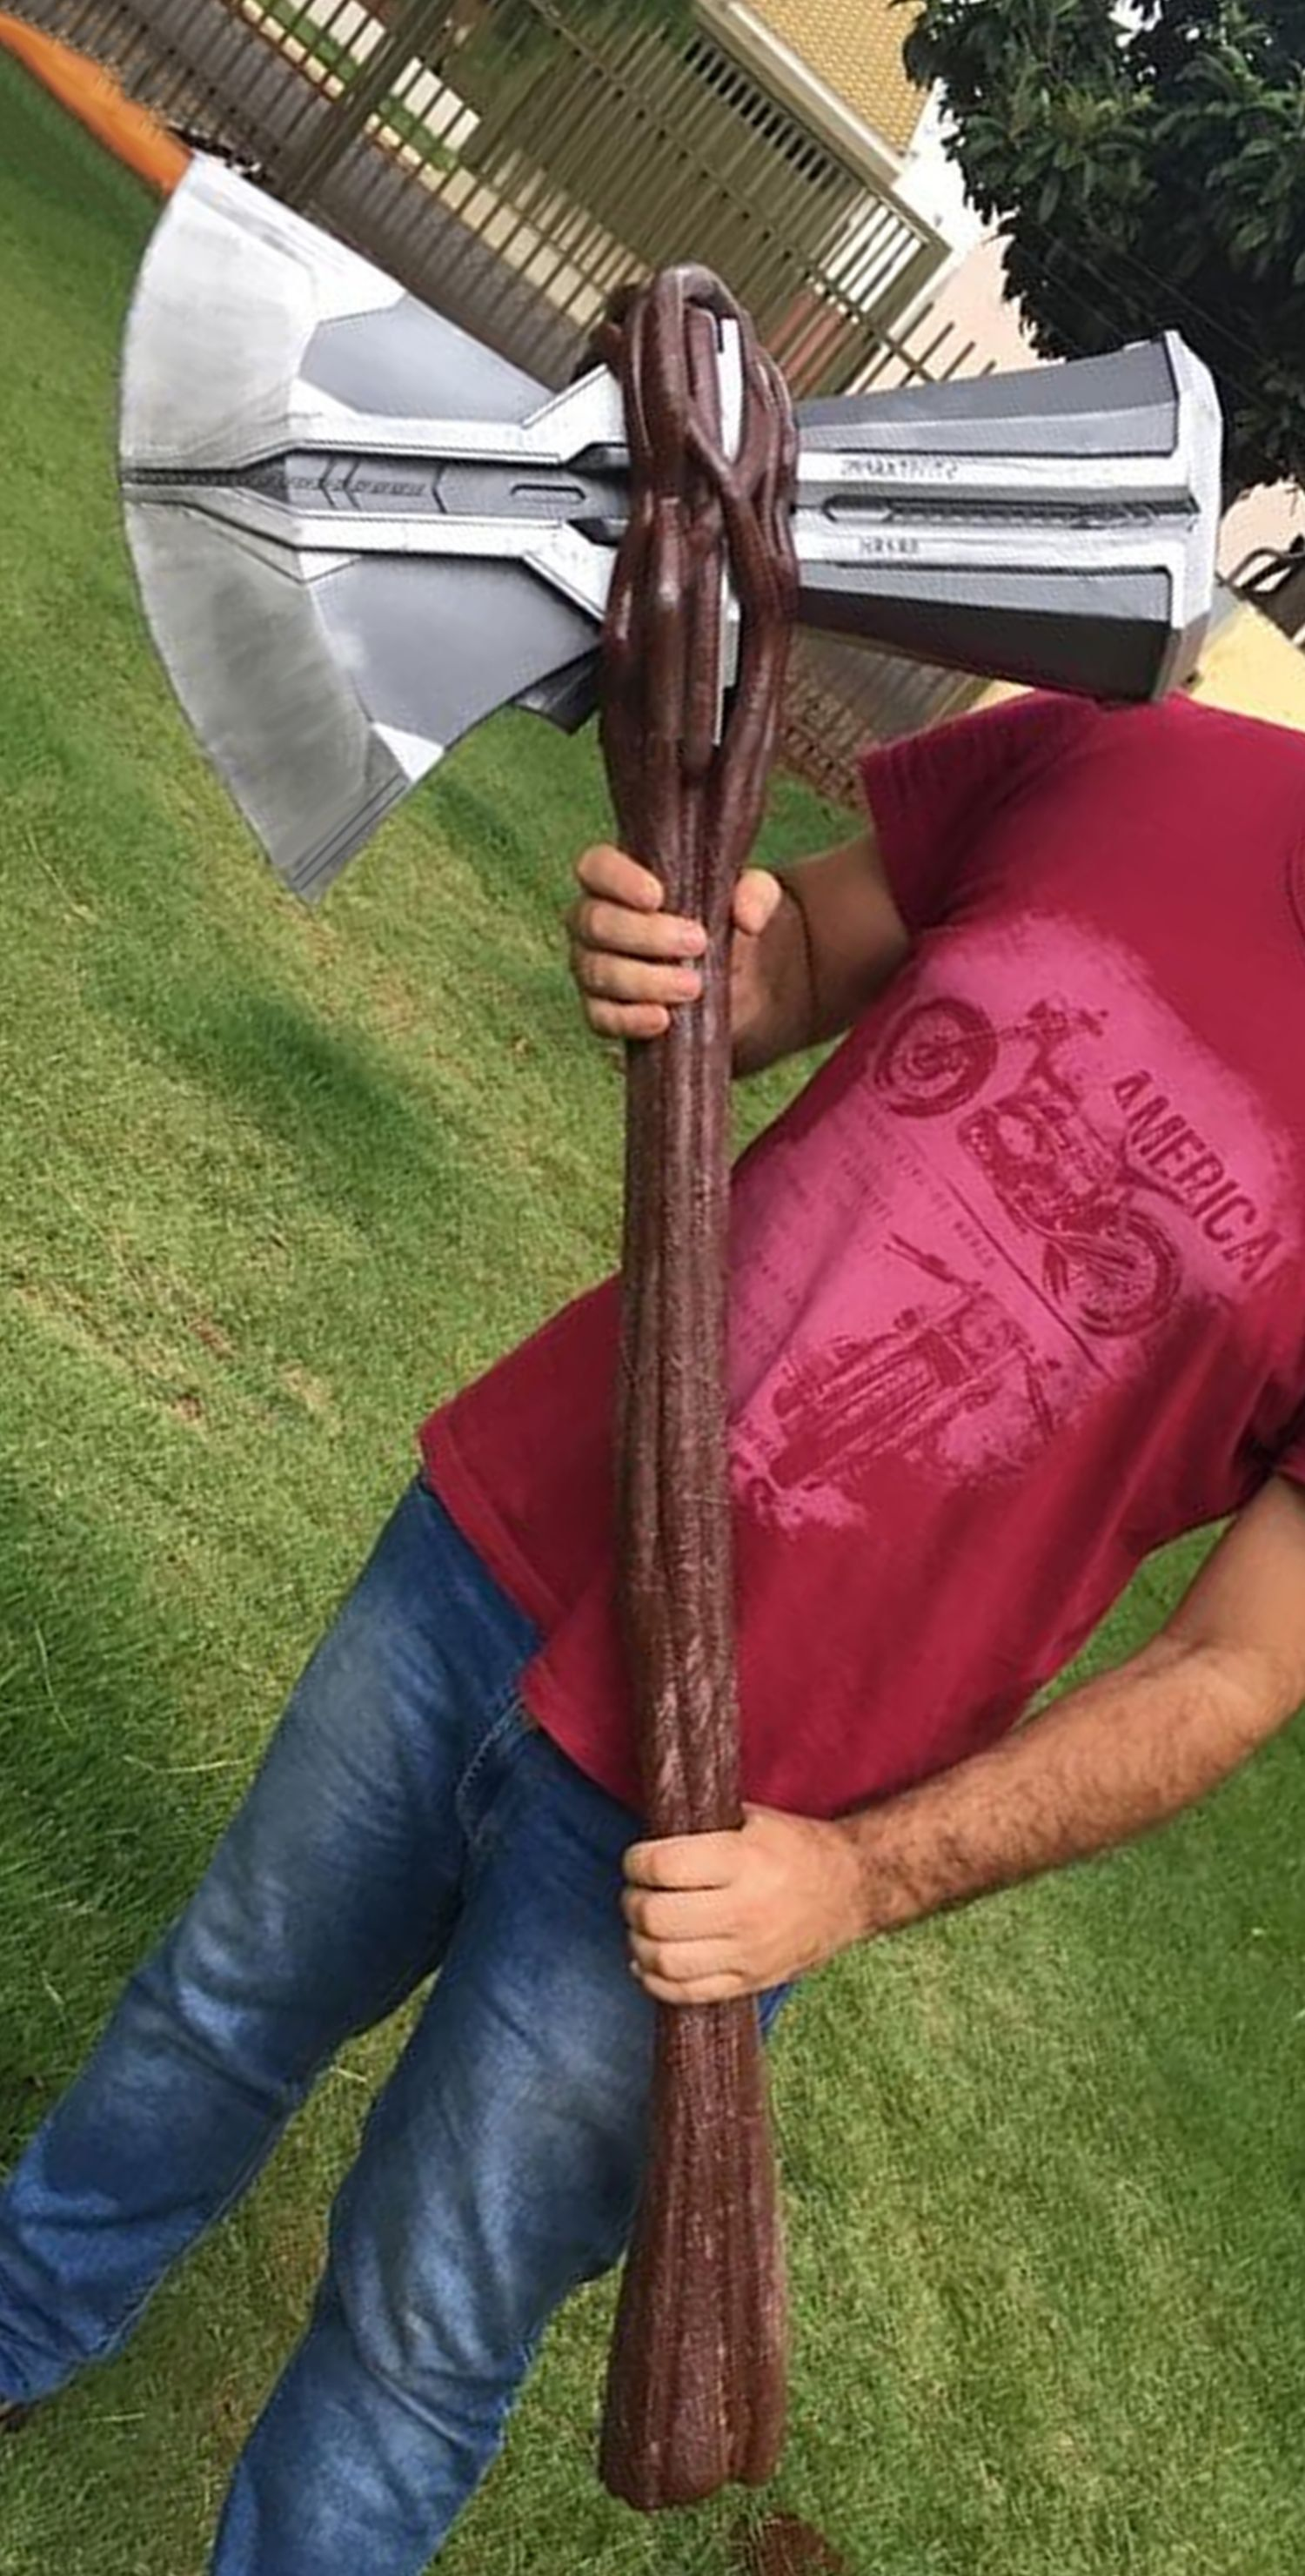THOR Hammer: (123, 153, 1230, 2441), (371, 849, 629, 1097), (1002, 1466, 1137, 1676)
